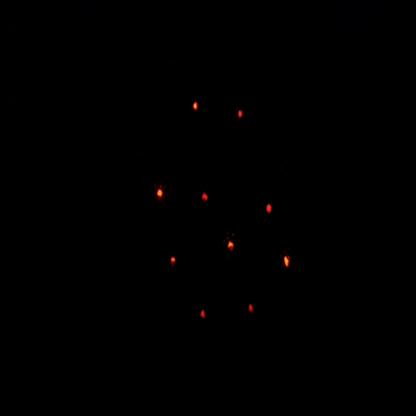PET: (190, 300, 218, 339), (234, 97, 256, 136), (195, 179, 215, 215), (243, 289, 261, 327), (262, 189, 282, 222)
PVC: (162, 240, 189, 284), (276, 241, 302, 283), (219, 225, 244, 267), (186, 89, 209, 129), (151, 174, 172, 213)
